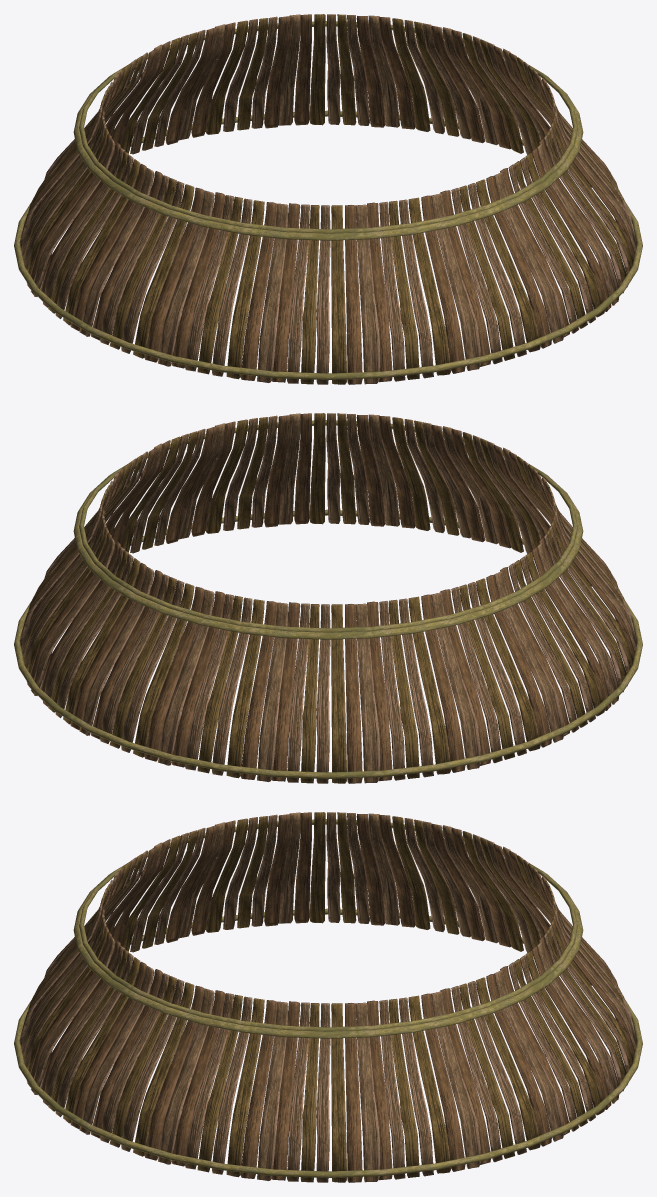
Rendered from SM_hut_center_s_shape.fbx.
The picture shows the model from 3 angles, top to bottom: view 1: azimuth 30°, elevation 25°; view 2: azimuth 150°, elevation 25°; view 3: azimuth 270°, elevation 25°; orthographic projection.
Visible parts, largest first — view 1: hut_center_s_shape; view 2: hut_center_s_shape; view 3: hut_center_s_shape.
Boxes of the visible parts, <box> form: hut_center_s_shape: <box>14,14,642,384</box>; hut_center_s_shape: <box>14,413,642,783</box>; hut_center_s_shape: <box>14,812,642,1182</box>.
Bounding box in the file's own units: 1500 × 381 × 1500.
